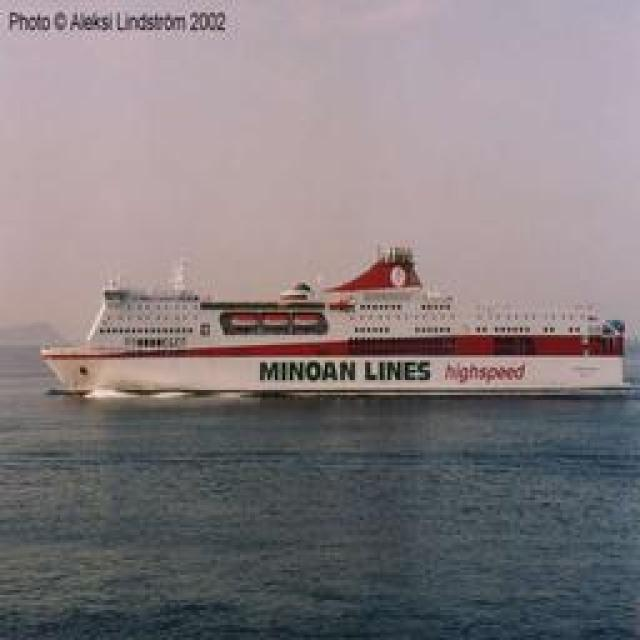ship: (44, 263, 624, 400)
